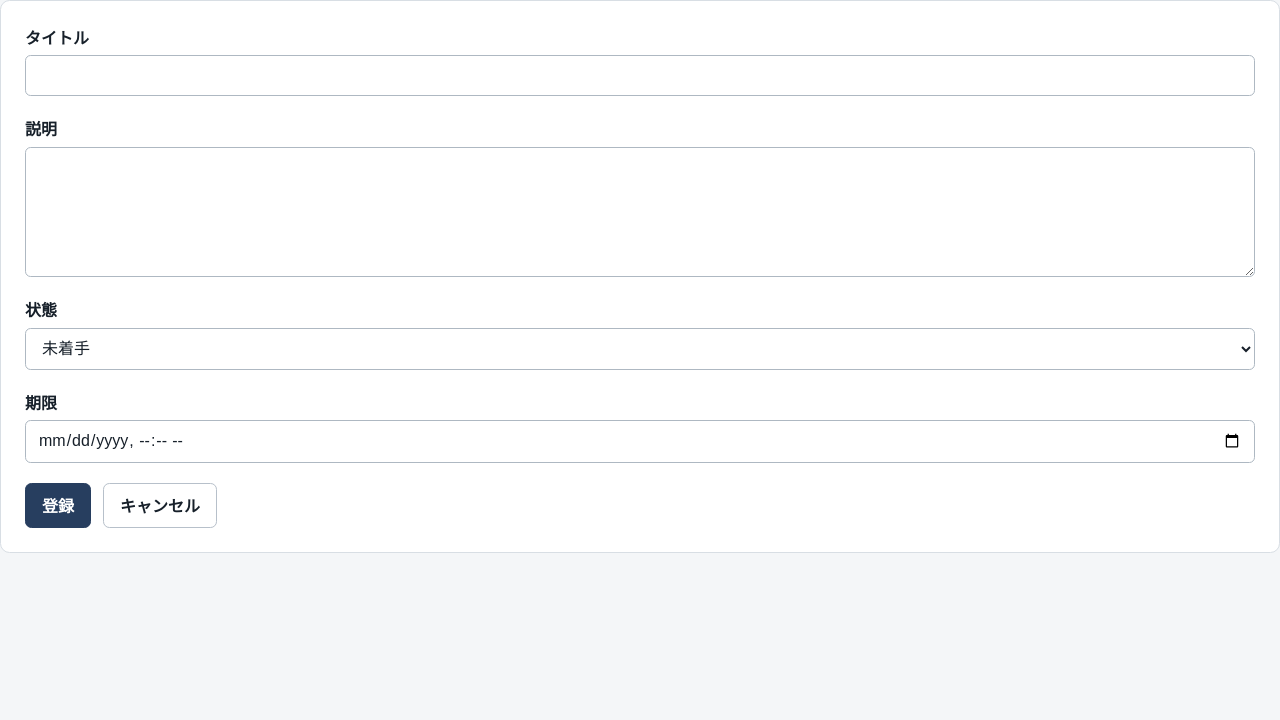
Test: TaskForm › shows connection error
Type "Task" into the field labelled "タイトル".
click(640, 76); type("Task")  # box [25,55,1255,96]
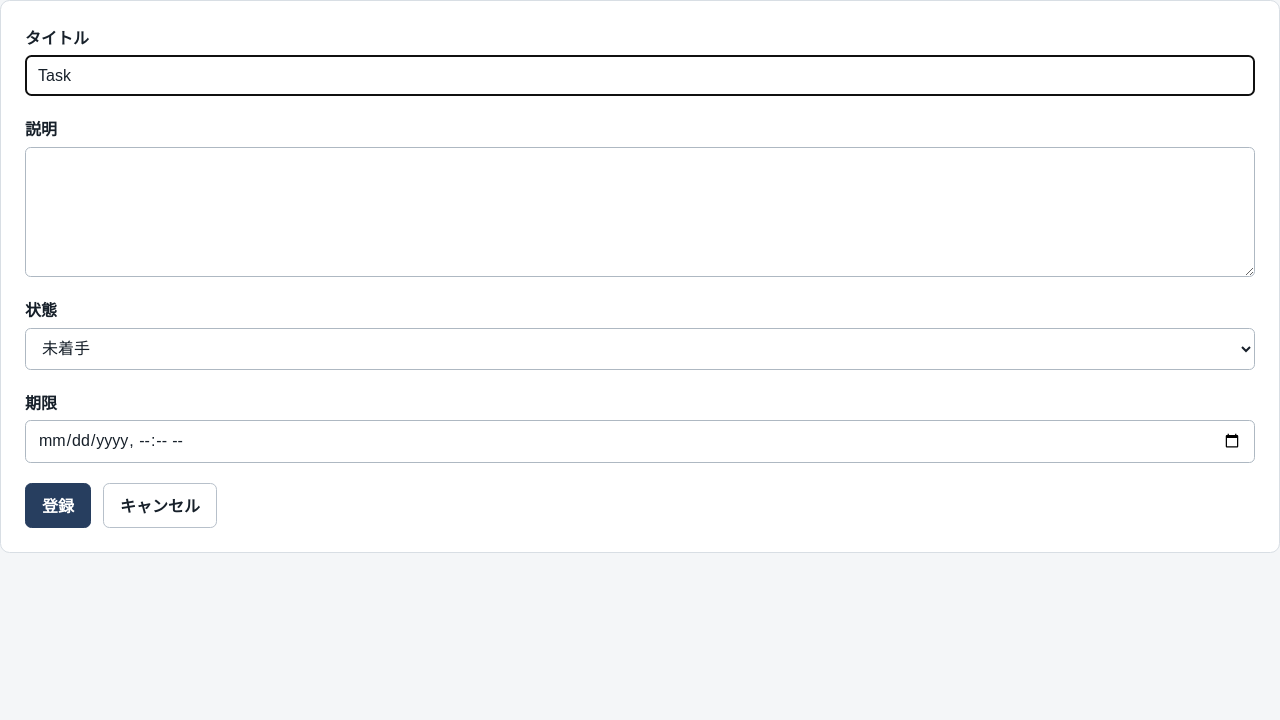
Click the button "登録".
click(58, 505)  # box [25,483,91,528]
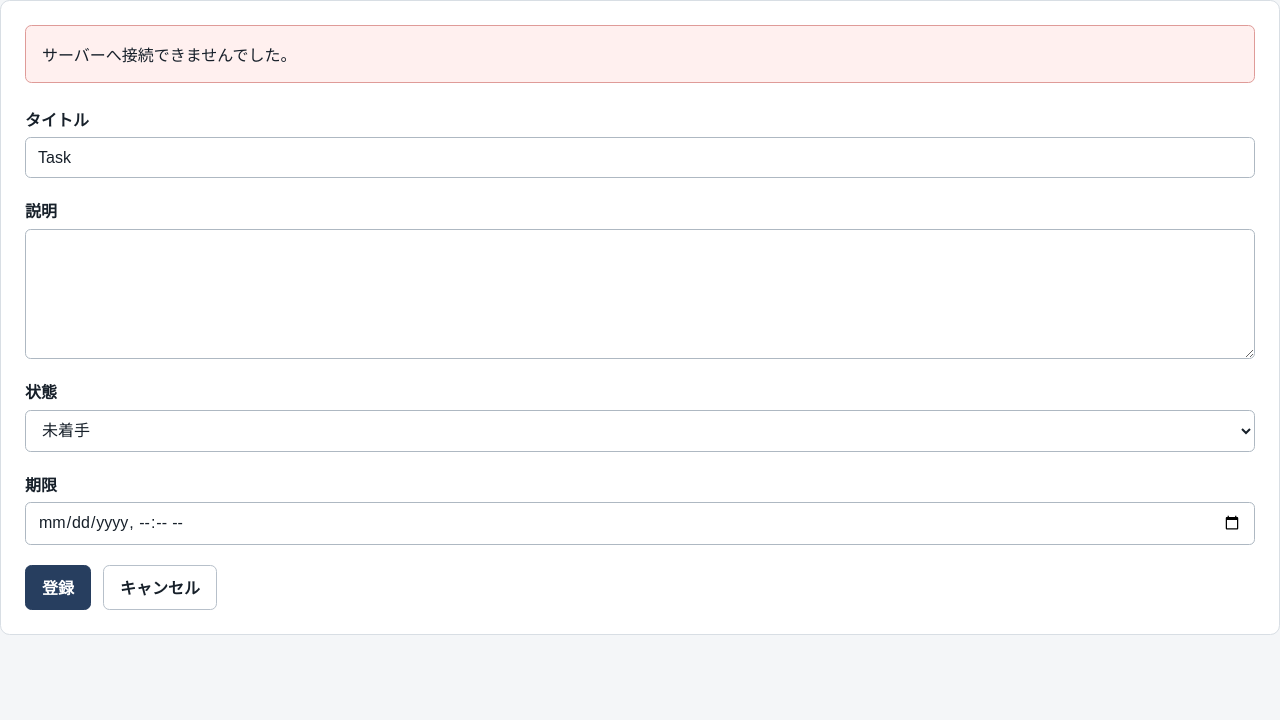
Expected: the message reads "サーバーへ接続できませんでした。", [42,47,297,64]
